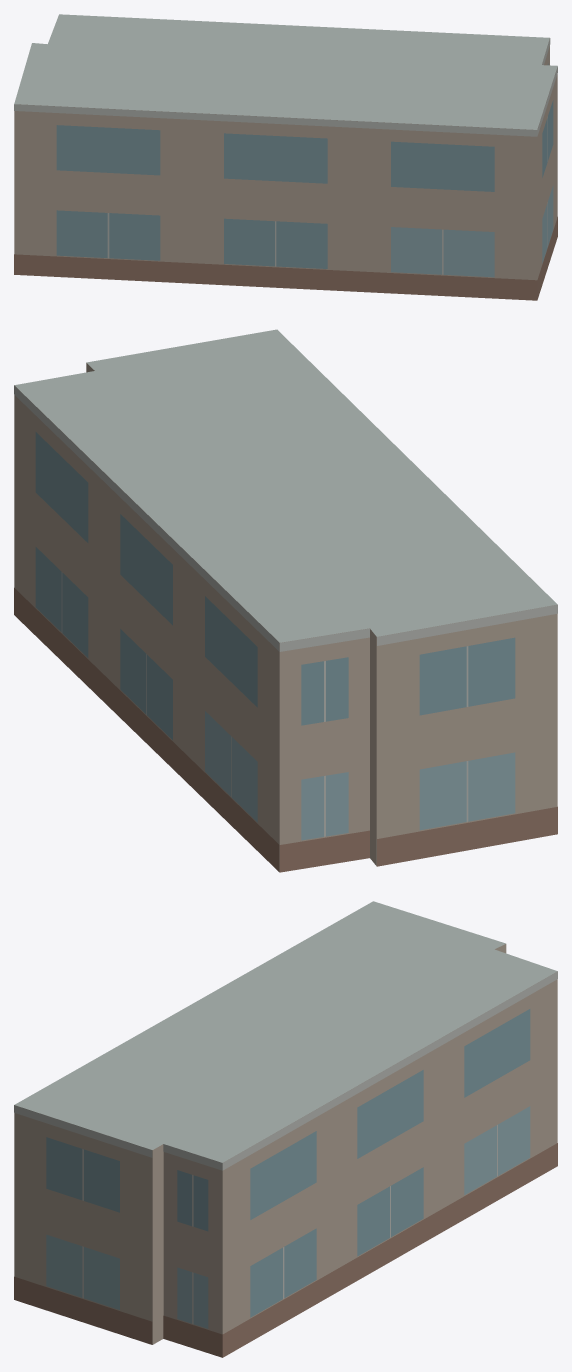
The model's file is survey-upis-32740173.glb.
3 views of the same model, one above another, from view 1: azimuth 30°, elevation 25°; view 2: azimuth 150°, elevation 25°; view 3: azimuth 270°, elevation 25° (orthographic). The views are drawn at different scales.
Visible parts, largest first — view 1: survey-upis-32740173.tmp; view 2: survey-upis-32740173.tmp; view 3: survey-upis-32740173.tmp.
Part boxes in pixels (x1,y1,x2,y2): survey-upis-32740173.tmp: [14, 14, 557, 300]; survey-upis-32740173.tmp: [14, 329, 557, 872]; survey-upis-32740173.tmp: [14, 901, 557, 1357].
Bounding box in the file's own units: 17.59 × 6.1 × 15.44.
